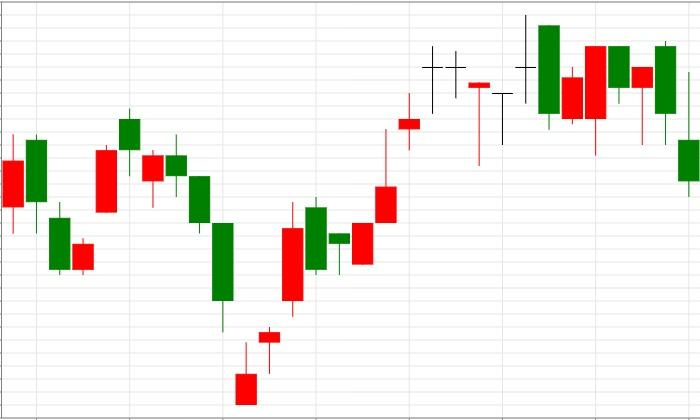shooting_star_fall: (235, 129, 396, 405)
